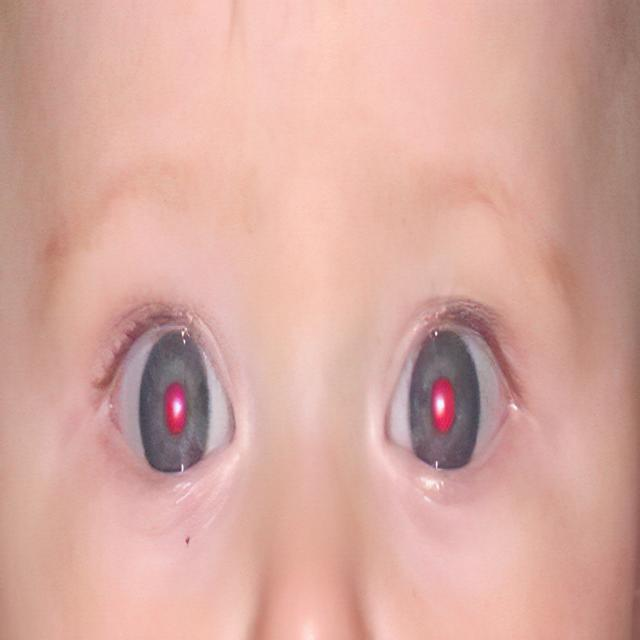reflexo-normal: (380, 273, 519, 522), (109, 292, 246, 523)
